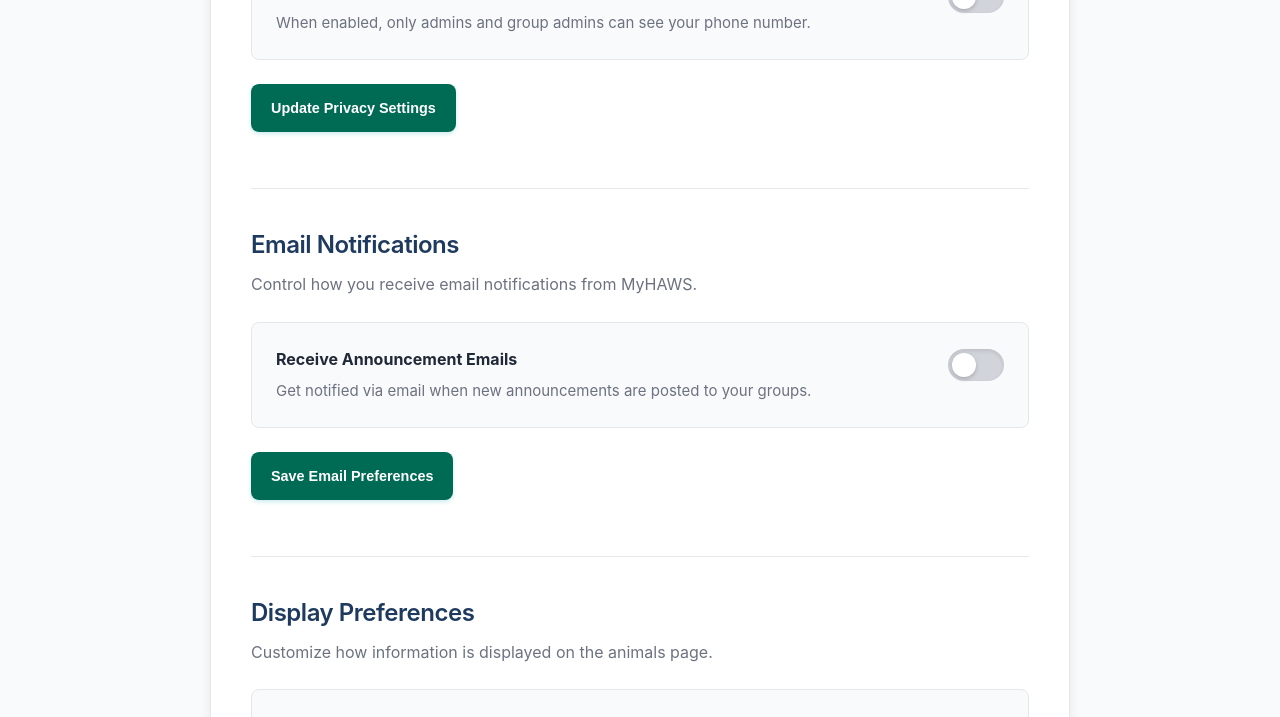
Settings › Saving preferences › should save email notification preference when save button is clicked
(page scrolled)
What coordinates should you click on to do the following:
click the checkbox labelled "Receive Announcement Emails"
I would click on:
 (397, 358)
Its box is left=276, top=348, right=517, bottom=368.
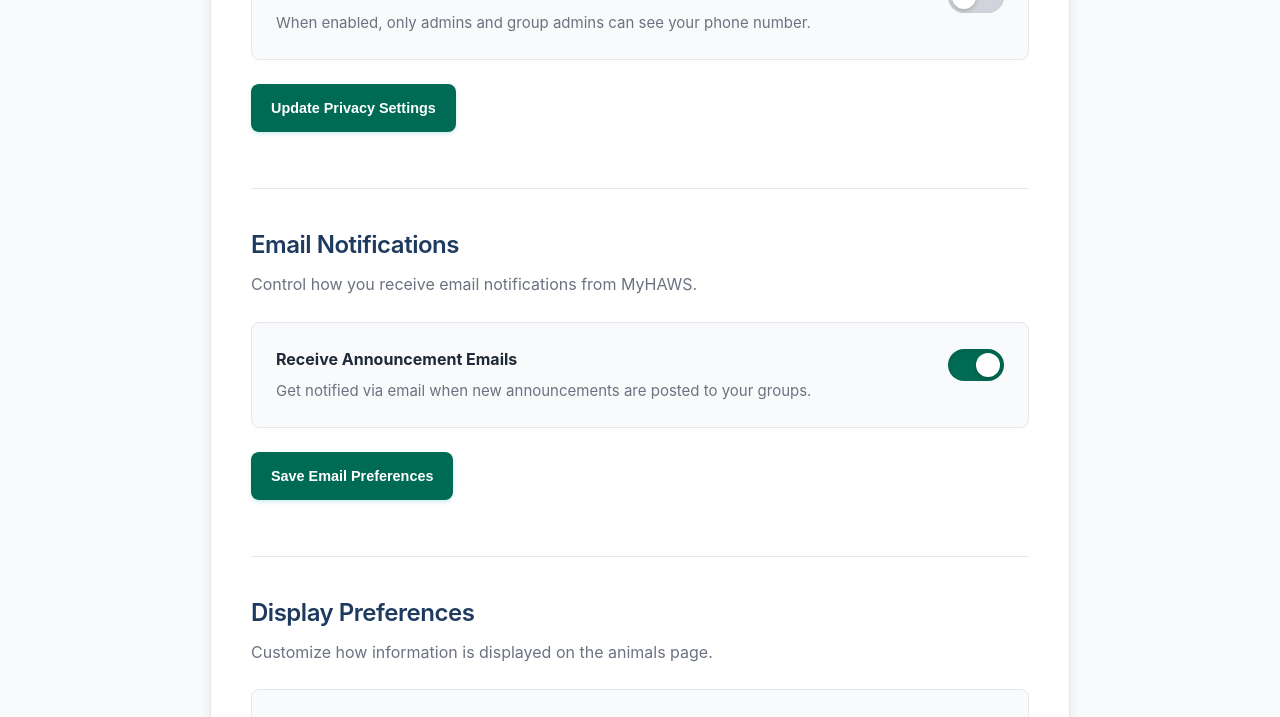
What coordinates should you click on to do the following:
click the button "Save Email Preferences"
I would click on:
 (352, 476)
Its box is left=251, top=452, right=453, bottom=500.
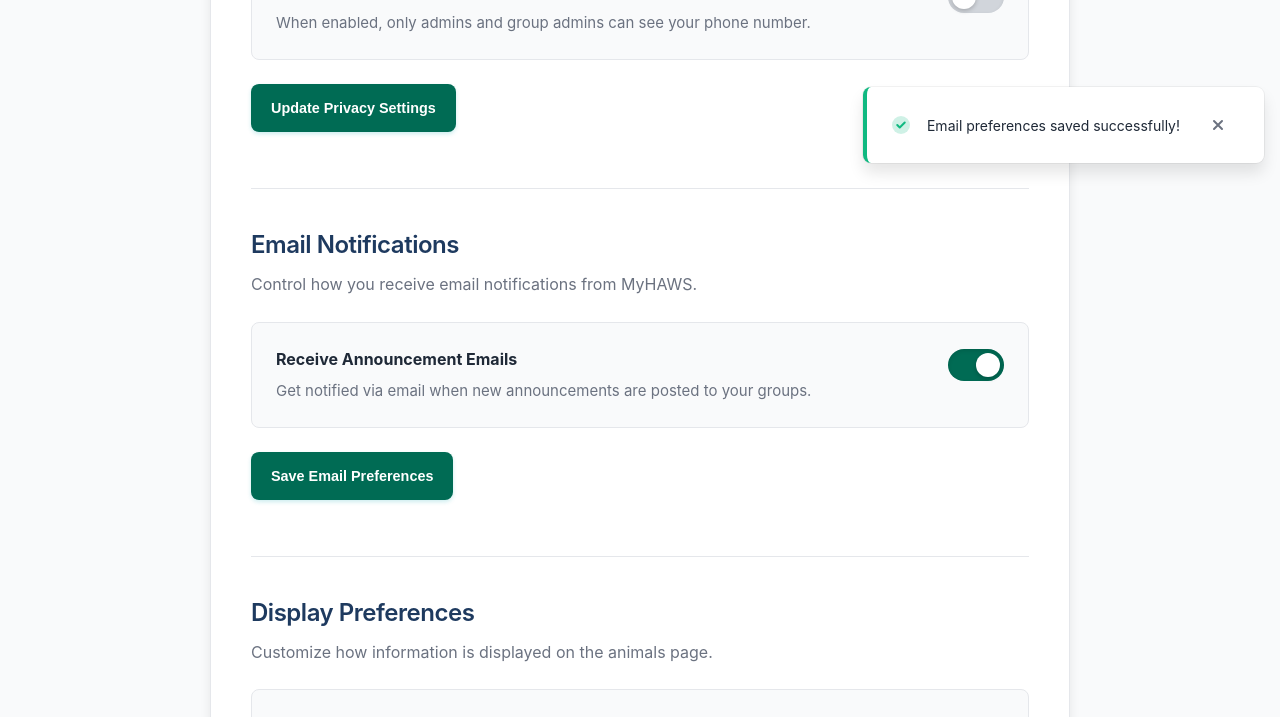
Check: the text "Email preferences saved successfully!" is shown, box left=927, top=114, right=1180, bottom=136
